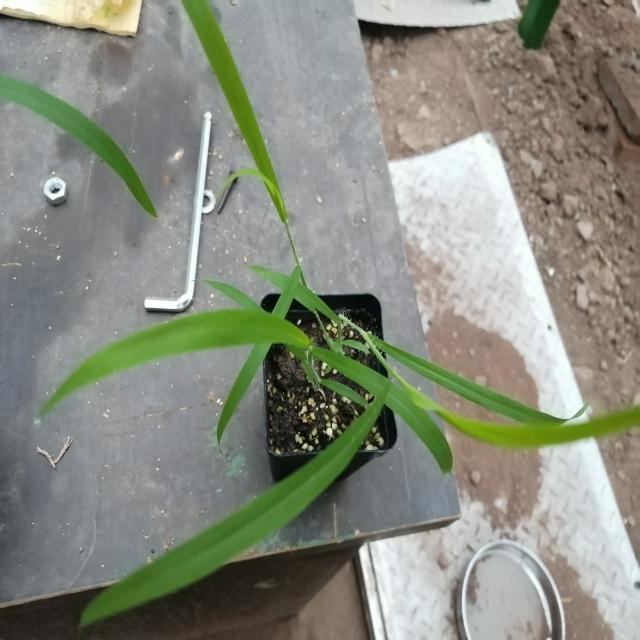crabgrass: (41, 301, 551, 577), (104, 0, 349, 403)
